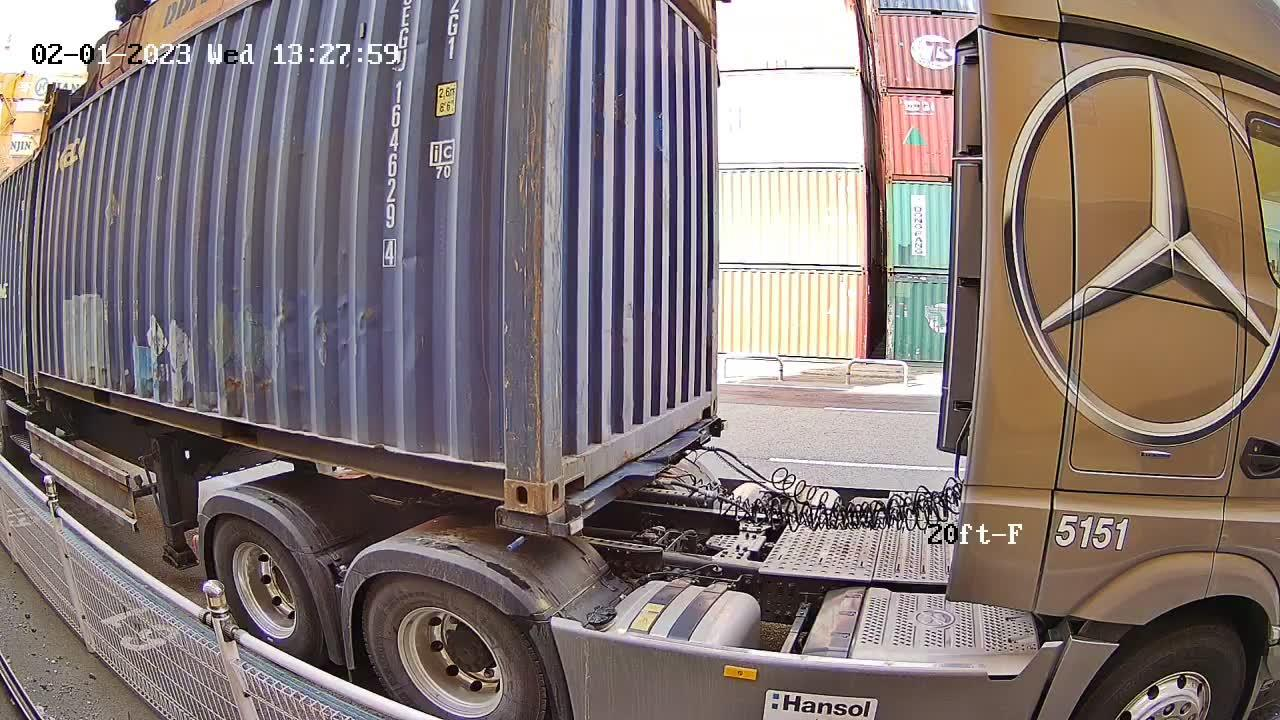Chassis: (501, 414, 721, 543)
Cone: (505, 510, 546, 549)
Hole_L: (542, 414, 595, 518)
Hole_R: (463, 426, 544, 515), (697, 375, 718, 422)
Tire: (362, 571, 544, 719), (214, 517, 323, 671)
